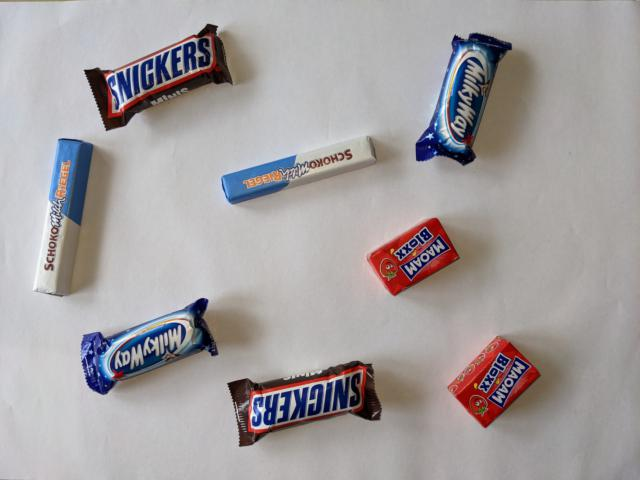MAOAM: (444, 334, 543, 431), (363, 216, 461, 300)
MilkyWay: (77, 296, 220, 398), (412, 30, 514, 168)
Schokoriegel: (219, 132, 381, 207), (29, 137, 95, 300)
Snickers: (82, 22, 237, 133), (225, 360, 383, 450)
